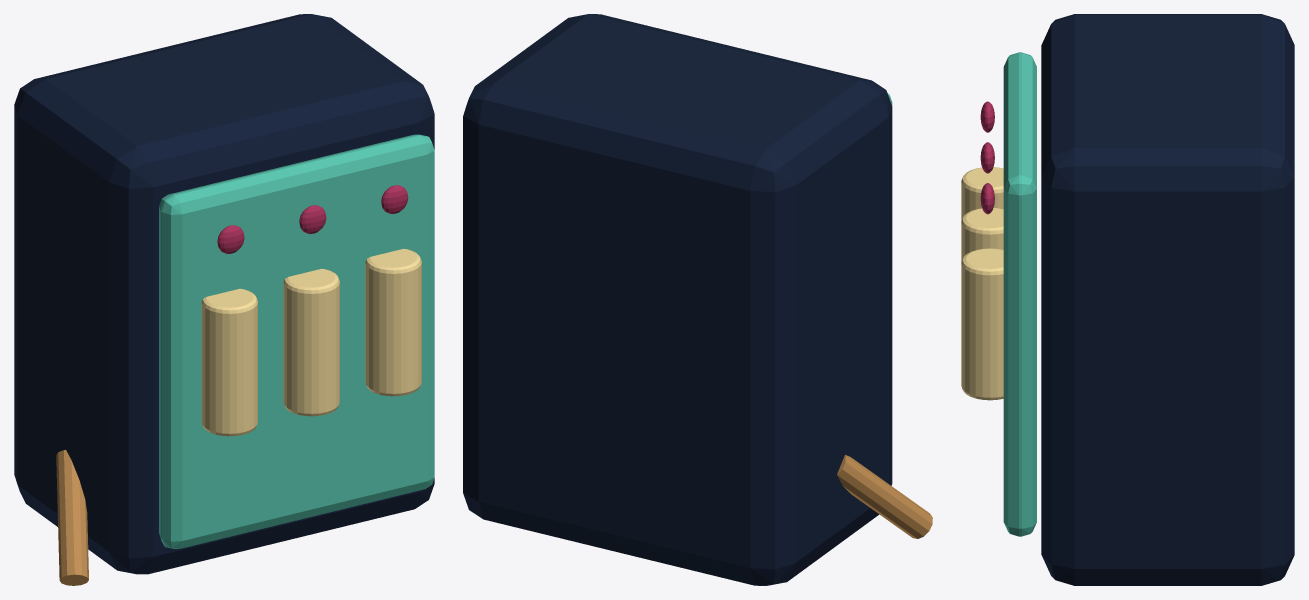
The model's file is Mission_power_repair.fbx.
3 renders of one model, left to right at view 1: azimuth 30°, elevation 25°; view 2: azimuth 150°, elevation 25°; view 3: azimuth 270°, elevation 25°, orthographic. The views are drawn at different scales.
Parts seen in each view (by area): view 1: Mission_power_repair.Mesh, Mission_power_repair.RepairPanel; view 2: Mission_power_repair.Mesh; view 3: Mission_power_repair.Mesh, Mission_power_repair.RepairPanel.
Boxes of the visible parts, x1=… form: Mission_power_repair.Mesh: x1=14, y1=14, x2=434, y2=585; Mission_power_repair.RepairPanel: x1=159, y1=134, x2=434, y2=548; Mission_power_repair.Mesh: x1=463, y1=14, x2=932, y2=585; Mission_power_repair.Mesh: x1=961, y1=14, x2=1294, y2=585; Mission_power_repair.RepairPanel: x1=1003, y1=52, x2=1036, y2=536.
Size of the model in its own units: 71.81 by 80.35 by 55.3.
